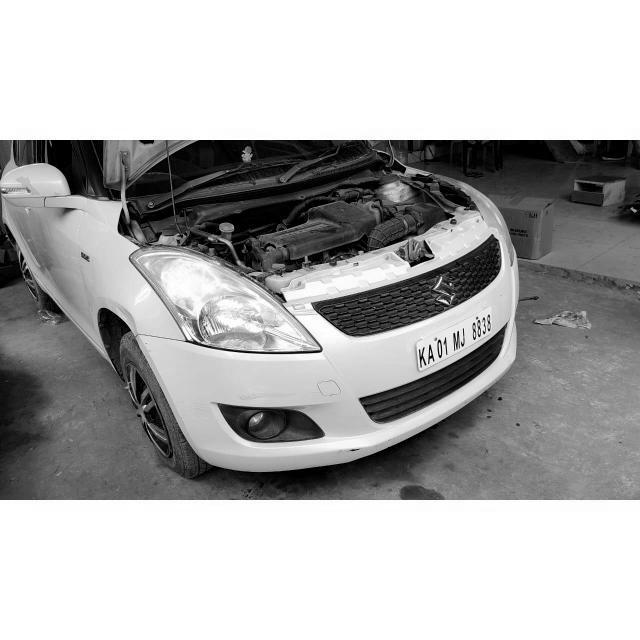front-bumper-dent: (172, 343, 373, 476)
